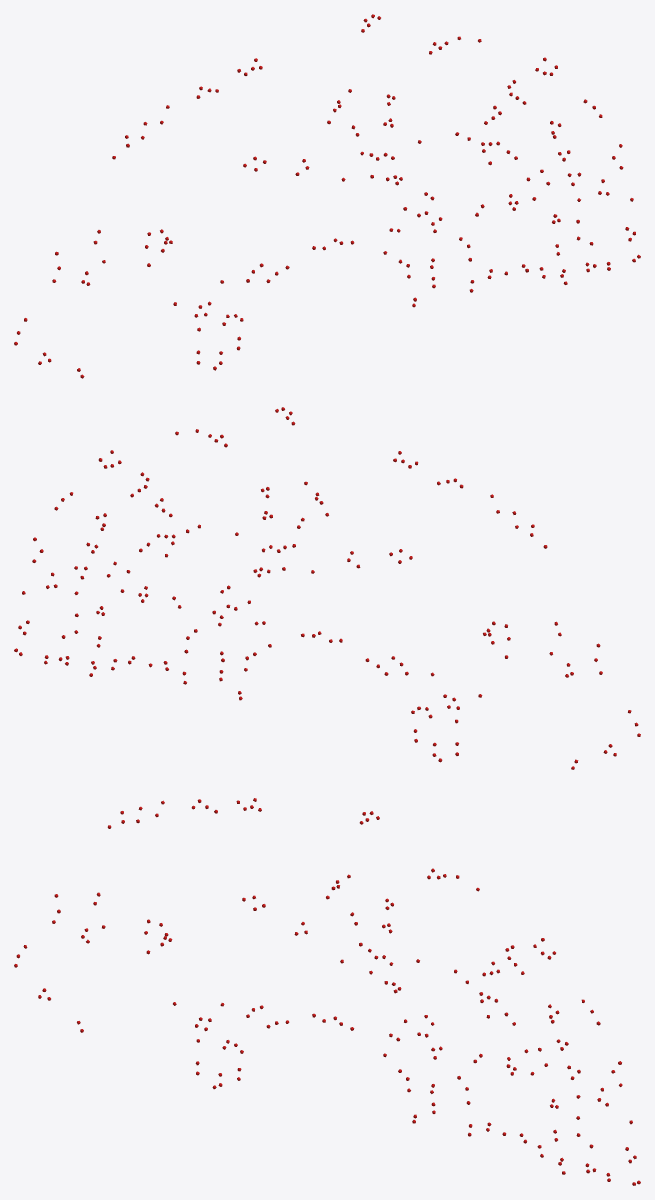
The model's file is ribosome1.glb.
The picture shows the model from 3 angles, top to bottom: view 1: azimuth 30°, elevation 25°; view 2: azimuth 150°, elevation 25°; view 3: azimuth 330°, elevation 25°; orthographic projection.
Parts seen in each view (by area): view 1: Ribosomes.001; view 2: Ribosomes.001; view 3: Ribosomes.001.
Part boxes in pixels (bbox=[...]): Ribosomes.001: bbox=[14, 14, 640, 378]; Ribosomes.001: bbox=[14, 407, 640, 769]; Ribosomes.001: bbox=[14, 798, 640, 1185].
Bounding box in the file's own units: 18.57 × 8.98 × 0.2806.
